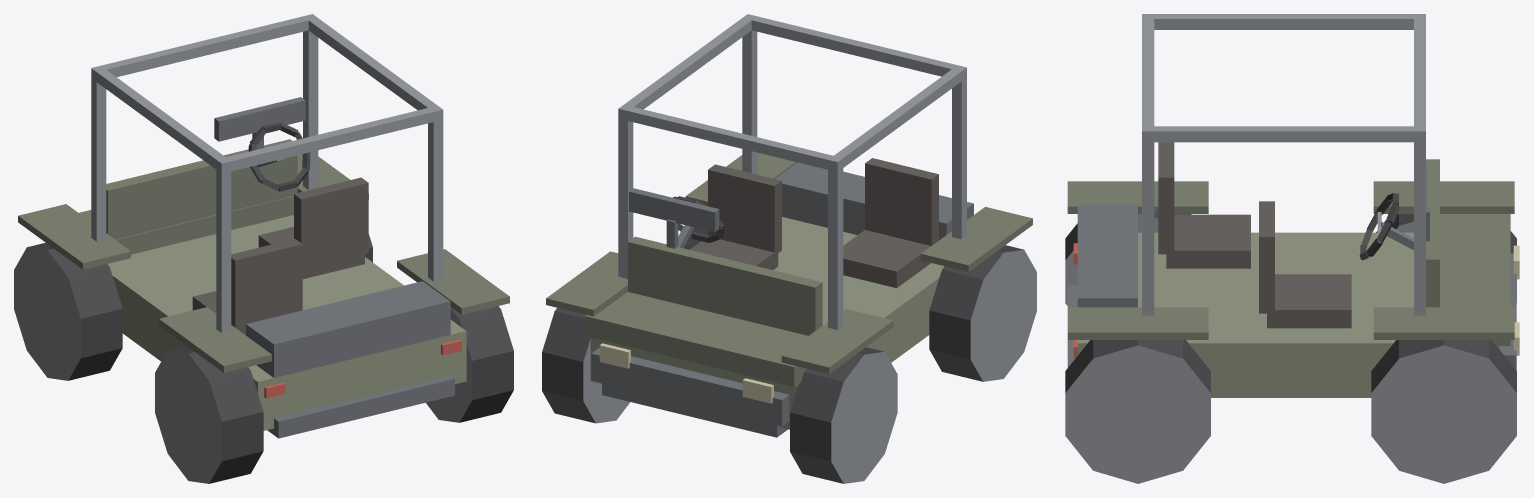
File: rover.v1.glb
3 renders of one model, left to right at view 1: azimuth 30°, elevation 25°; view 2: azimuth 150°, elevation 25°; view 3: azimuth 270°, elevation 25°, orthographic. The views are drawn at different scales.
Parts seen in each view (by area): view 1: vehicle.rover.v1; view 2: vehicle.rover.v1; view 3: vehicle.rover.v1.
Part boxes in pixels (x1,y1,x2,y2): vehicle.rover.v1: (14, 14, 513, 483); vehicle.rover.v1: (542, 14, 1036, 483); vehicle.rover.v1: (1065, 14, 1519, 483).
Bounding box in the file's own units: 1.82 × 1.83 × 2.26.
